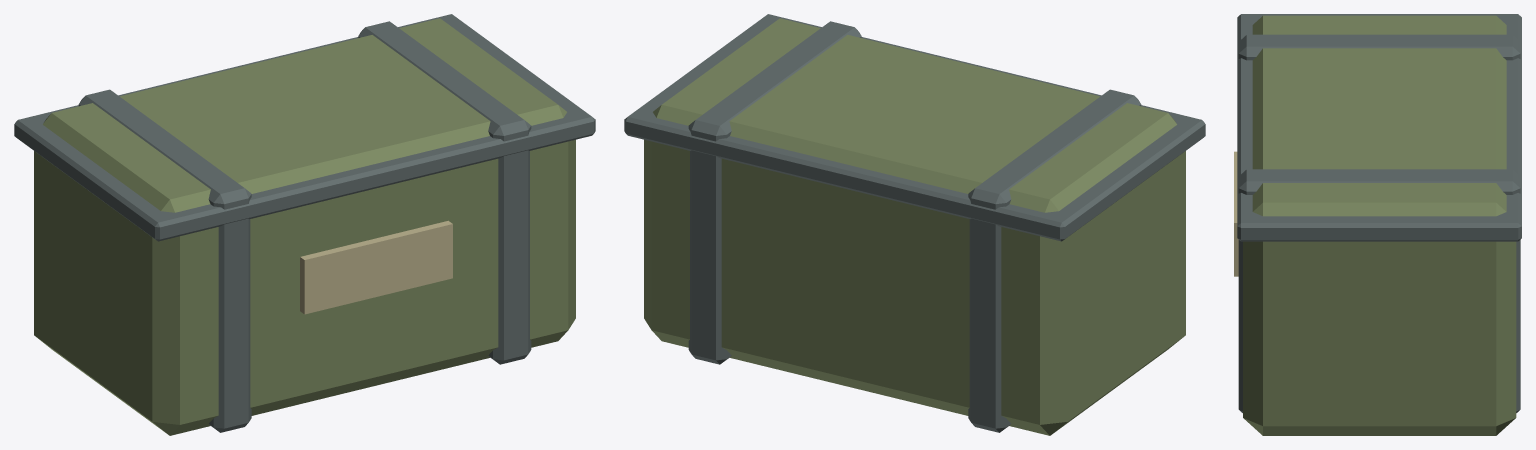
File: ammo_box.glb
The picture shows the model from 3 angles, left to right: view 1: azimuth 30°, elevation 25°; view 2: azimuth 150°, elevation 25°; view 3: azimuth 270°, elevation 25°; orthographic projection.
Parts seen in each view (by area): view 1: ammo_box; view 2: ammo_box; view 3: ammo_box.
Part boxes in pixels (box(x1,y1,x2,y2)): ammo_box: box(14, 14, 595, 435); ammo_box: box(624, 14, 1205, 435); ammo_box: box(1234, 14, 1521, 435).
Size of the model in its own units: 0.624 by 0.3232 by 0.3577.
